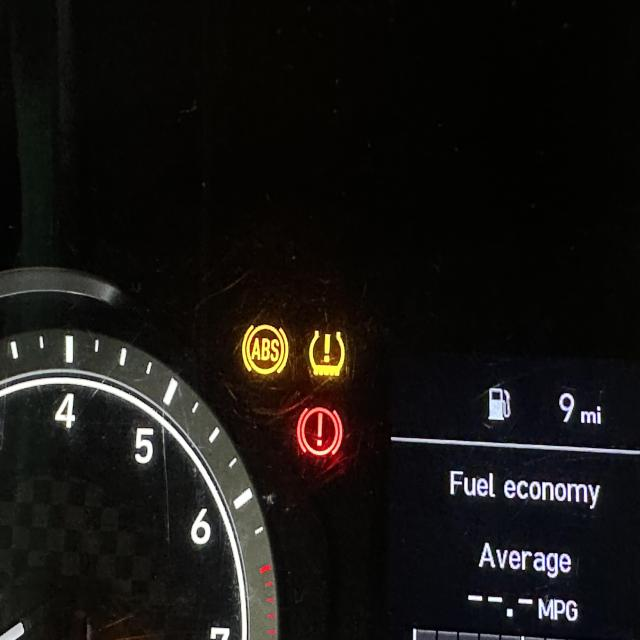ABS: (236, 320, 294, 377)
HandBrakeWarning: (293, 403, 348, 462)
TyrePressureLow: (308, 328, 350, 383)
